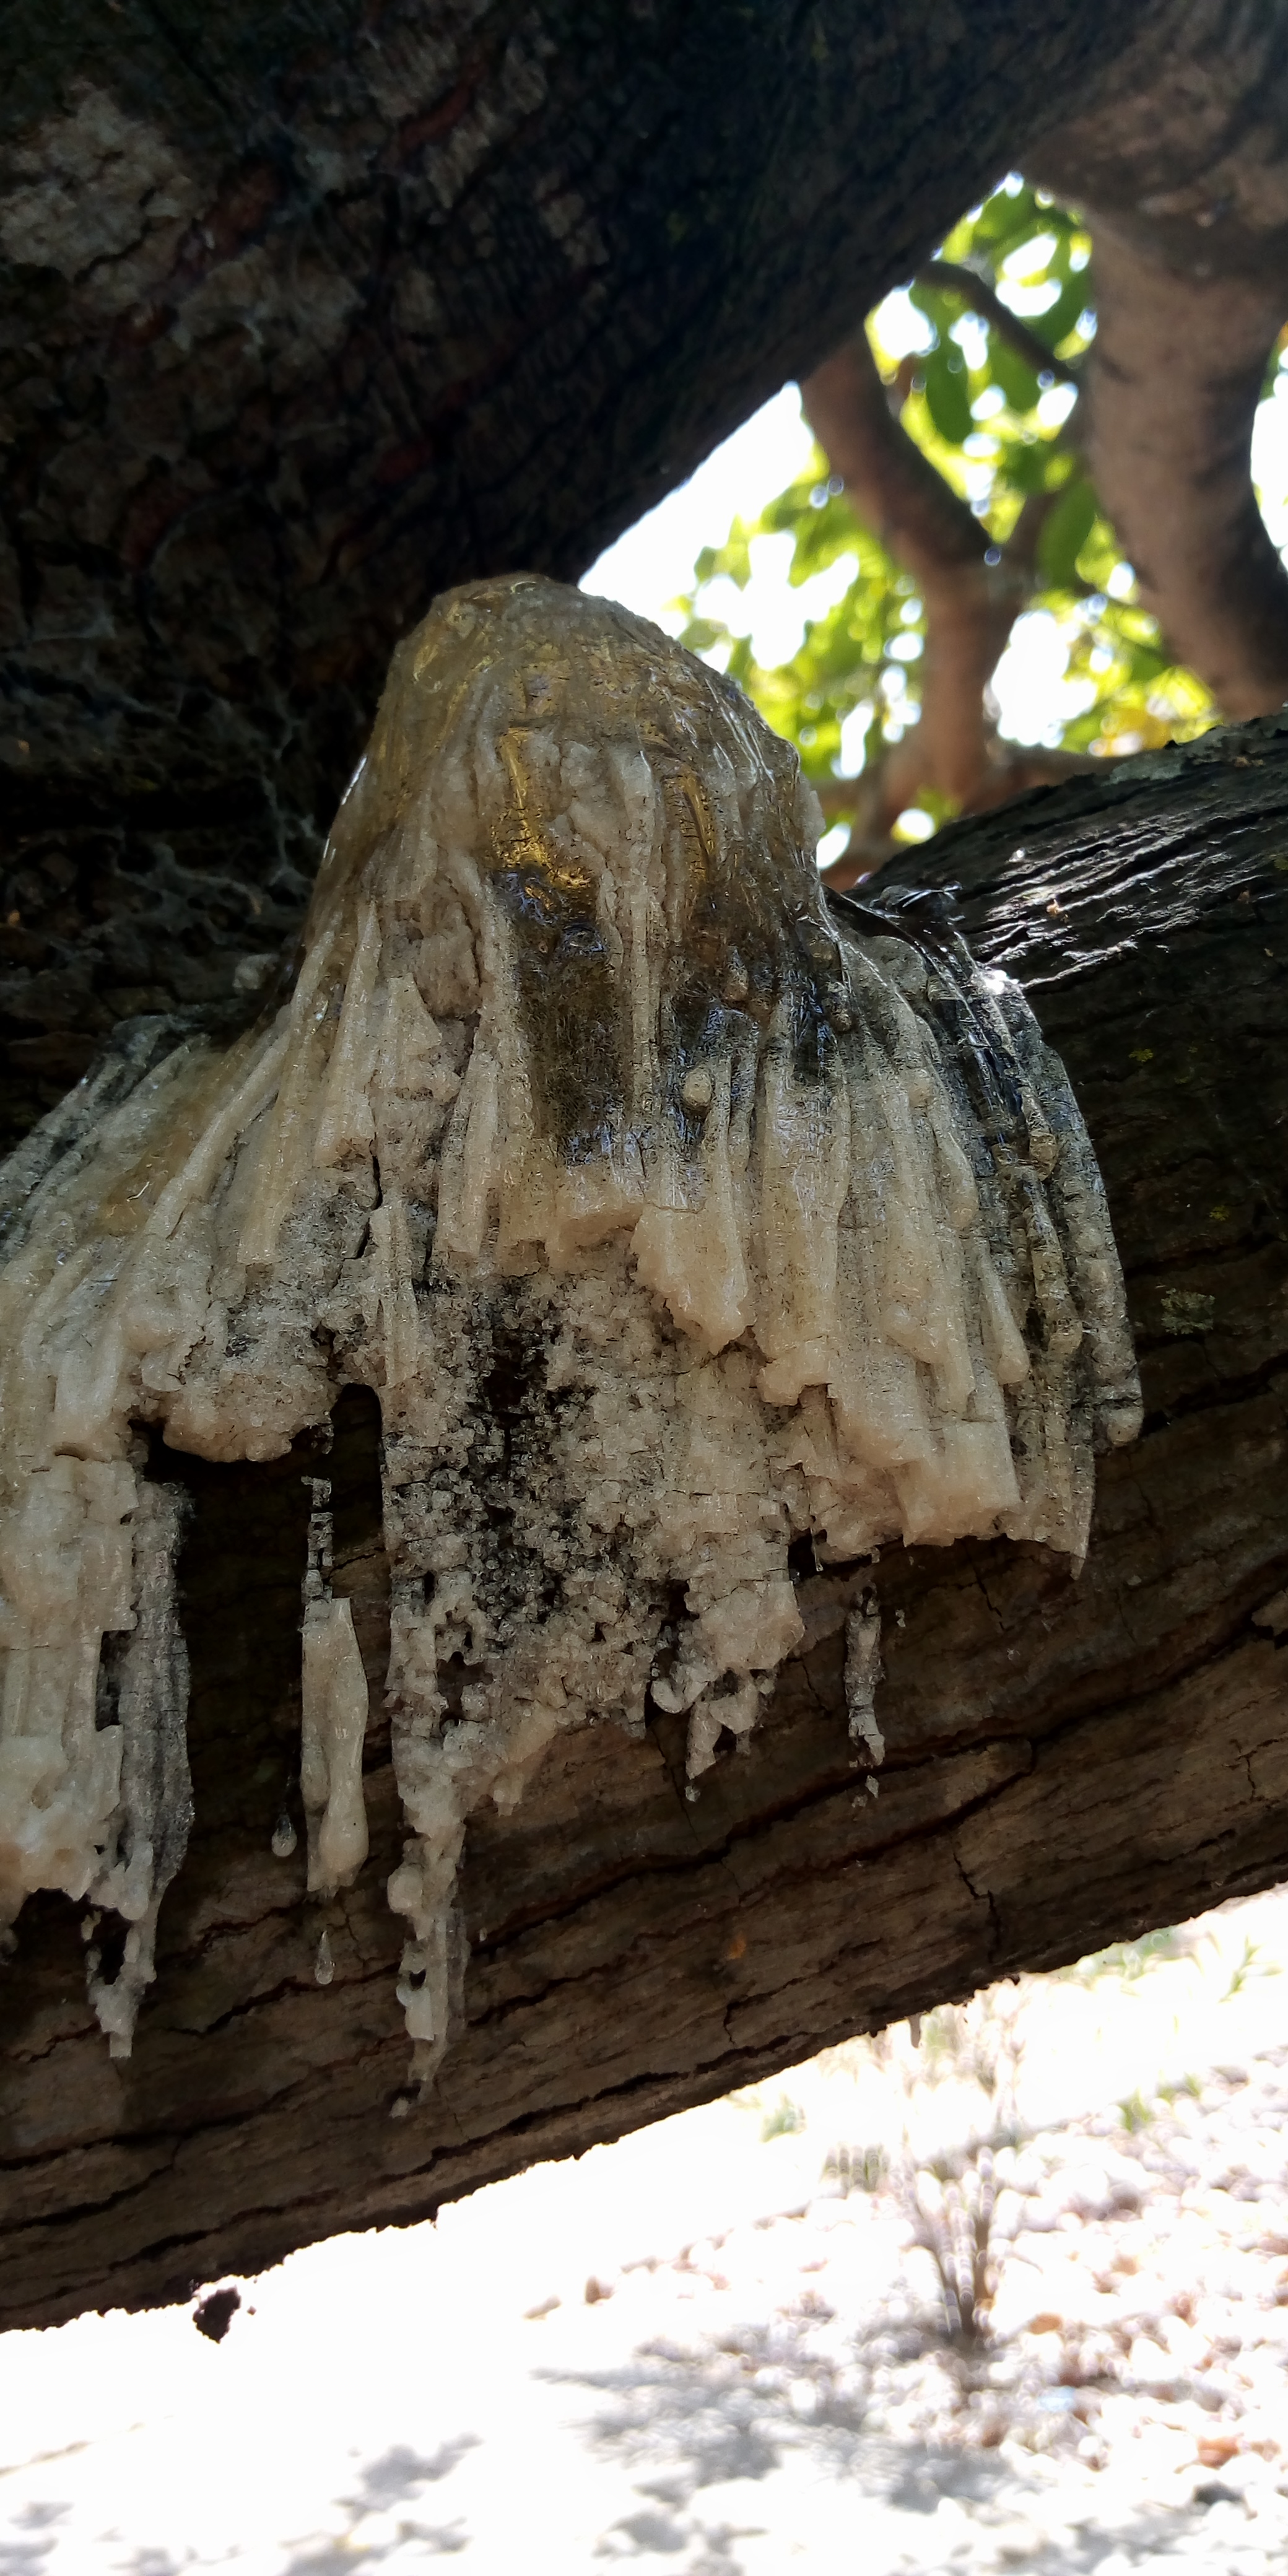Gommose: (36, 573, 1288, 1700)
